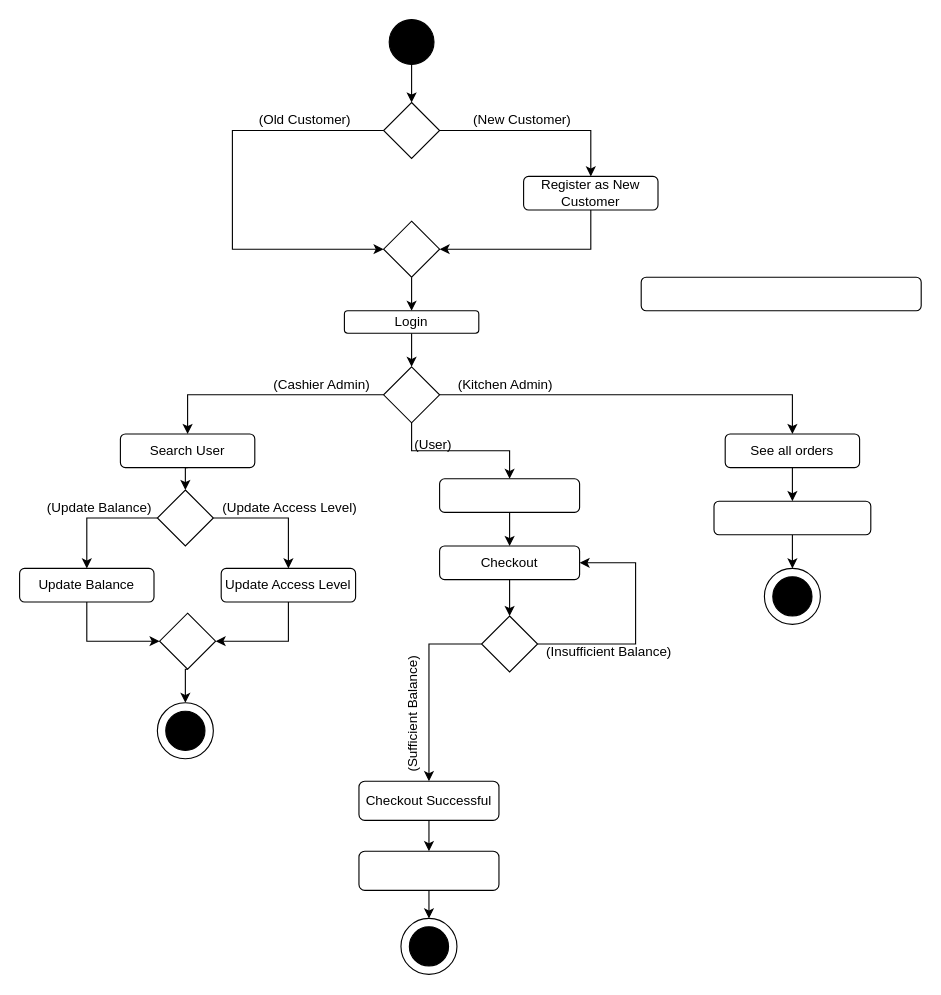
Some shapes in this 941 by 995 pixel diagram are drawn without their labels. The centre of each missing label's shape, as x and y in pixels:
Add order to kitchen view: the point at 428,870
Get Customer Information: the point at 780,293
Mark order as complete: the point at 792,517
Order Food: the point at 509,495
